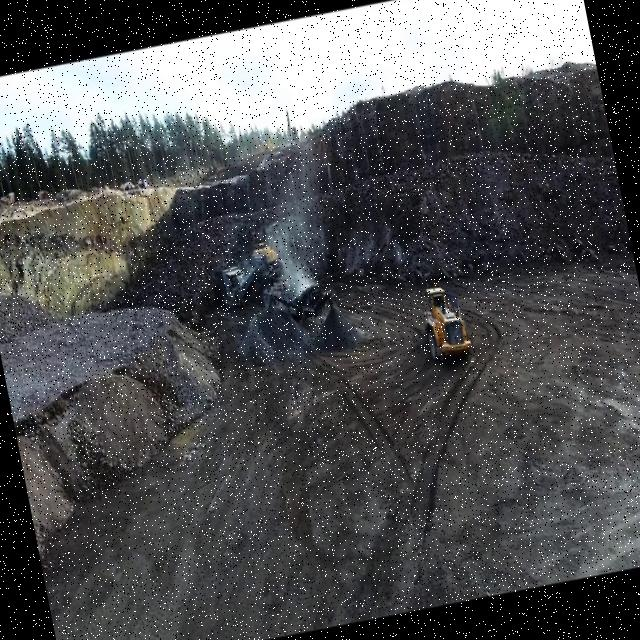Excavator: (247, 218, 301, 264)
Loader: (414, 276, 474, 364)
